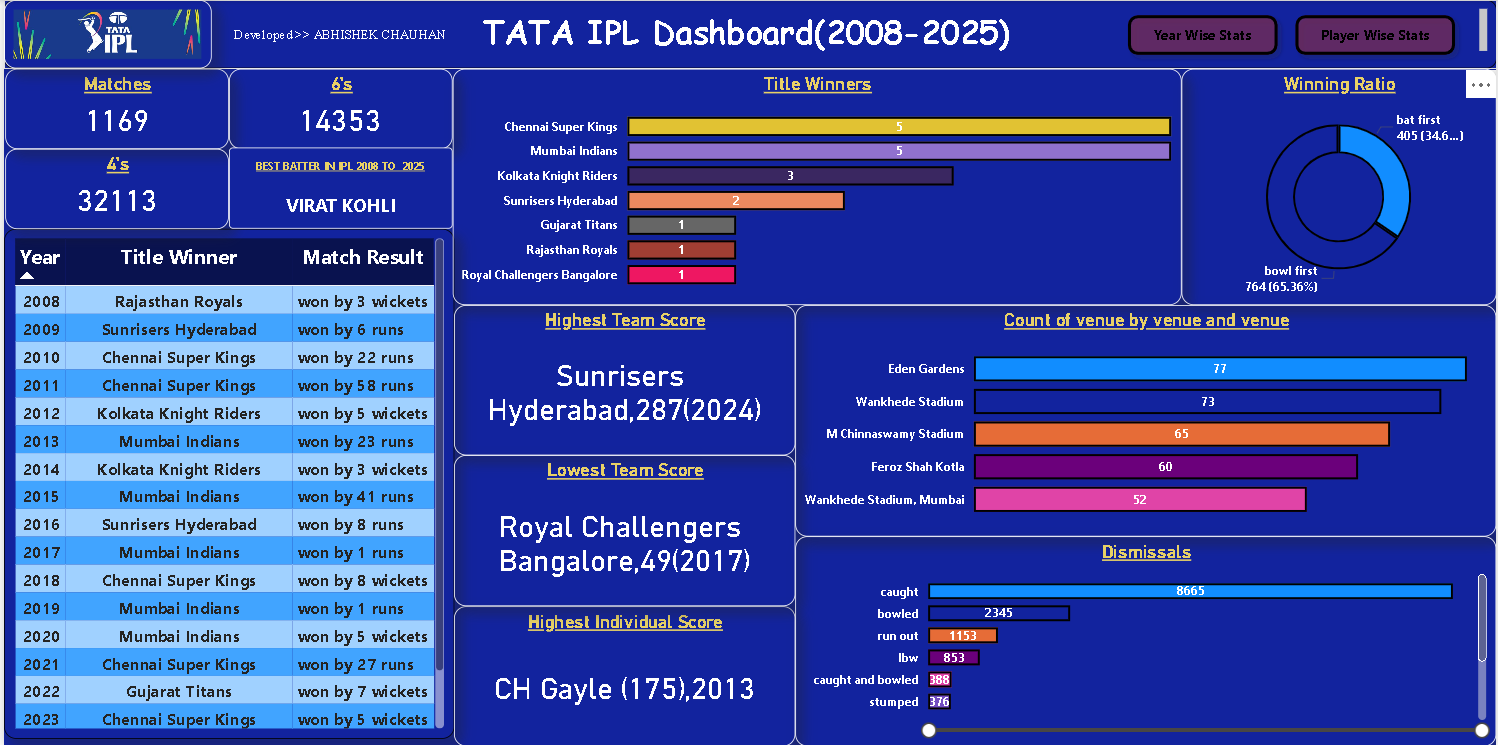

The dashboard page shown, as its layout file describes it:
{"tool":"powerbi","page":{"name":"Main","canvas":[1500,750],"ordinal":0},"visuals":[{"type":"textbox","box":[0,0,1500.5,69.1],"z":0},{"type":"tableEx","fields":{"Values":["ipl_matches.match_date.Variation.Date Hierarchy.Year","ipl_matches.match_winner","ipl_matches.match_result"]},"box":[0,230,452.4,512.7],"z":1000},{"type":"card","title":"Matches","fields":{"Values":["ipl_matches.match_id"]},"box":[1.3,69.1,225,80.4],"z":2000},{"type":"card","title":"4''s","fields":{"Values":["ball_by_ball_data.4's"]},"box":[1.3,149.5,225,80.4],"z":3000},{"type":"card","title":"6''s","fields":{"Values":["ball_by_ball_data.6's"]},"box":[226.2,69.1,225,80.4],"z":4000},{"type":"barChart","title":"Title Winners","fields":{"Category":["ipl_matches.match_winner"],"Series":["ipl_matches.match_winner"],"Y":["ipl_matches.match_winner"]},"box":[451.2,69.1,732.7,237.5],"z":5000},{"type":"card","title":"Highest Individual Score","fields":{"Values":["Player_performance.highest_runs"]},"box":[452.4,609.5,343.1,140.8],"z":6000},{"type":"card","title":"Highest  Team Score","fields":{"Values":["Team_Scores.Highest_score"]},"box":[452.4,306.6,343.1,150.8],"z":7000},{"type":"card","title":"Lowest Team  Score","fields":{"Values":["Team_Scores.lowest_score"]},"box":[452.4,457.4,343.1,152.1],"z":8000},{"type":"donutChart","title":"Winning Ratio","fields":{"Y":["ipl_matches.bat_won","ipl_matches.field_won"]},"box":[1183.8,69.1,316.7,237.5],"z":9000},{"type":"barChart","fields":{"Category":["ipl_matches.venue"],"Y":["ipl_matches.venue"],"Series":["ipl_matches.venue"]},"box":[795.5,306.6,705,232.5],"z":10000},{"type":"barChart","title":"Dismissals","fields":{"Category":["ball_by_ball_data.wicket_kind"],"Y":["ball_by_ball_data.wicket_kind"],"Series":["ball_by_ball_data.wicket_kind"]},"box":[795.5,539.1,705,211.1],"z":11000},{"type":"image","box":[0,0,208.6,69.1],"z":12000},{"type":"actionButton","box":[1121,6.3,168.4,57.8],"z":13000},{"type":"actionButton","box":[1289.4,6.3,178.5,57.8],"z":14000},{"type":"textbox","box":[226.2,148.5,224.8,81.8],"z":15000},{"type":"textbox","box":[226.2,20.1,237.5,30.2],"z":15001}]}

Visuals, with their boxes in screenshot pixels (x1, y1, x2, y2), scaled from the page's 1500x750 canvas onto the 1498x745 screenshot:
textbox: {"x1": 0, "y1": 0, "x2": 1497, "y2": 69}
tableEx - ipl_matches.match_date.Variation.Date Hierarchy.Year x ipl_matches.match_winner: {"x1": 0, "y1": 228, "x2": 452, "y2": 738}
"Matches" card: {"x1": 1, "y1": 69, "x2": 226, "y2": 149}
"4''s" card: {"x1": 1, "y1": 149, "x2": 226, "y2": 228}
"6''s" card: {"x1": 226, "y1": 69, "x2": 451, "y2": 149}
"Title Winners" barChart: {"x1": 451, "y1": 69, "x2": 1182, "y2": 305}
"Highest Individual Score" card: {"x1": 452, "y1": 605, "x2": 794, "y2": 744}
"Highest  Team Score" card: {"x1": 452, "y1": 305, "x2": 794, "y2": 454}
"Lowest Team  Score" card: {"x1": 452, "y1": 454, "x2": 794, "y2": 605}
"Winning Ratio" donutChart: {"x1": 1182, "y1": 69, "x2": 1497, "y2": 305}
barChart - ipl_matches.venue x ipl_matches.venue: {"x1": 794, "y1": 305, "x2": 1497, "y2": 536}
"Dismissals" barChart: {"x1": 794, "y1": 536, "x2": 1497, "y2": 744}
image: {"x1": 0, "y1": 0, "x2": 208, "y2": 69}
actionButton: {"x1": 1120, "y1": 6, "x2": 1288, "y2": 64}
actionButton: {"x1": 1288, "y1": 6, "x2": 1466, "y2": 64}
textbox: {"x1": 226, "y1": 148, "x2": 450, "y2": 229}
textbox: {"x1": 226, "y1": 20, "x2": 463, "y2": 50}
